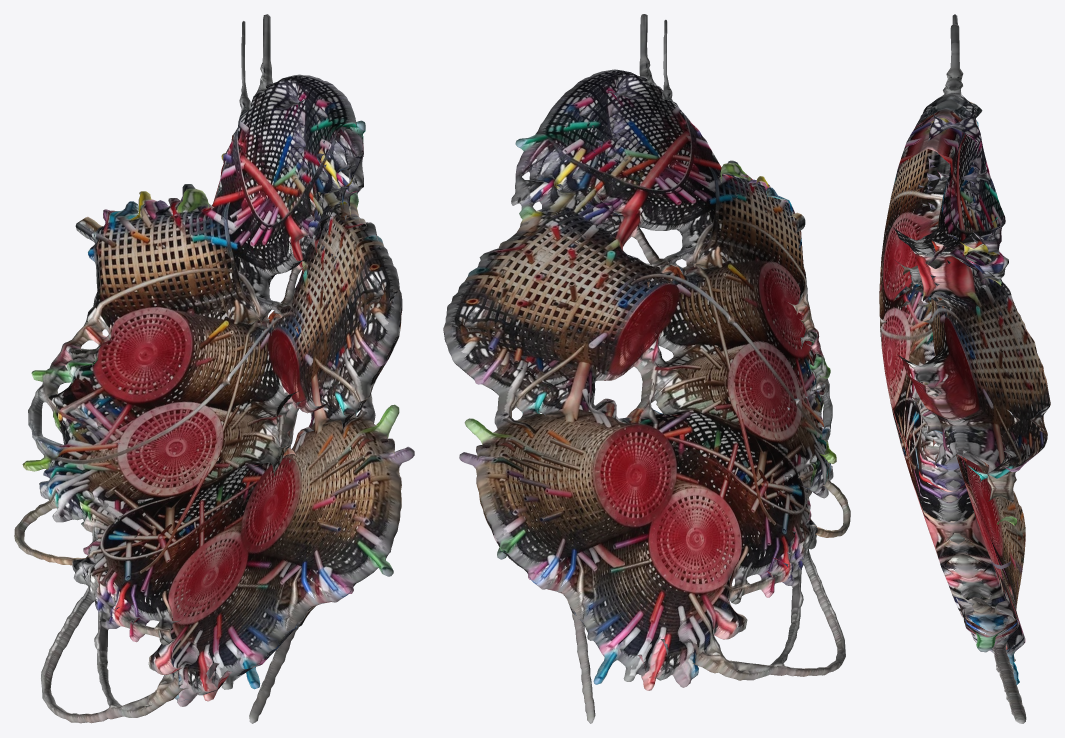
Rendered from hy3d-mov-023.glb.
3 renders of one model, left to right at view 1: azimuth 30°, elevation 25°; view 2: azimuth 150°, elevation 25°; view 3: azimuth 270°, elevation 25°, orthographic. The views are drawn at different scales.
Parts seen in each view (by area): view 1: world; view 2: world; view 3: world.
Part boxes in pixels (bbox=[...]): world: bbox=[14, 14, 414, 723]; world: bbox=[443, 14, 850, 723]; world: bbox=[879, 14, 1050, 723].
Bounding box in the file's own units: 1.45 × 2.51 × 0.5649.
1 material, 1 textured.
